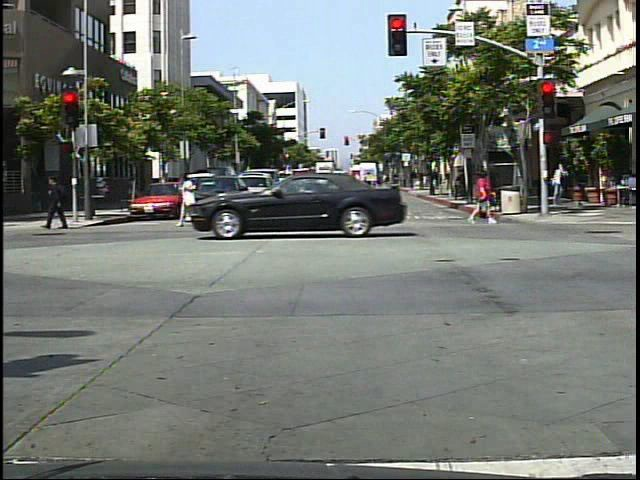person: (40, 169, 77, 235), (175, 169, 209, 233), (466, 169, 499, 230), (549, 160, 571, 207)
